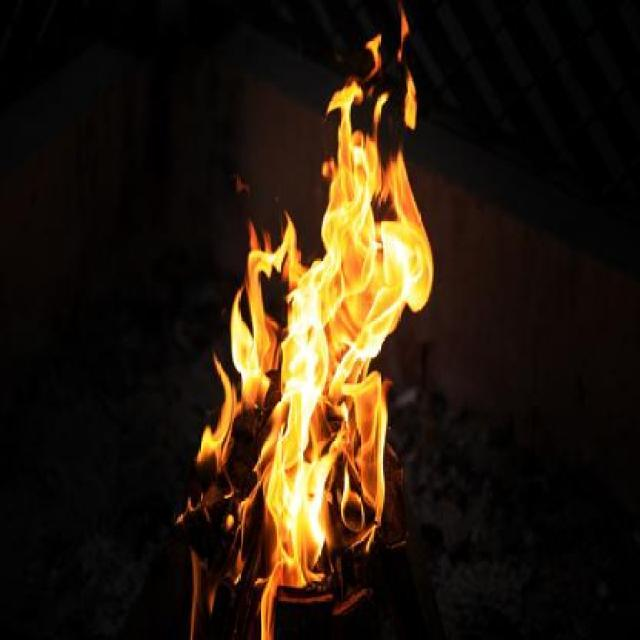Fire: (185, 2, 439, 640)
